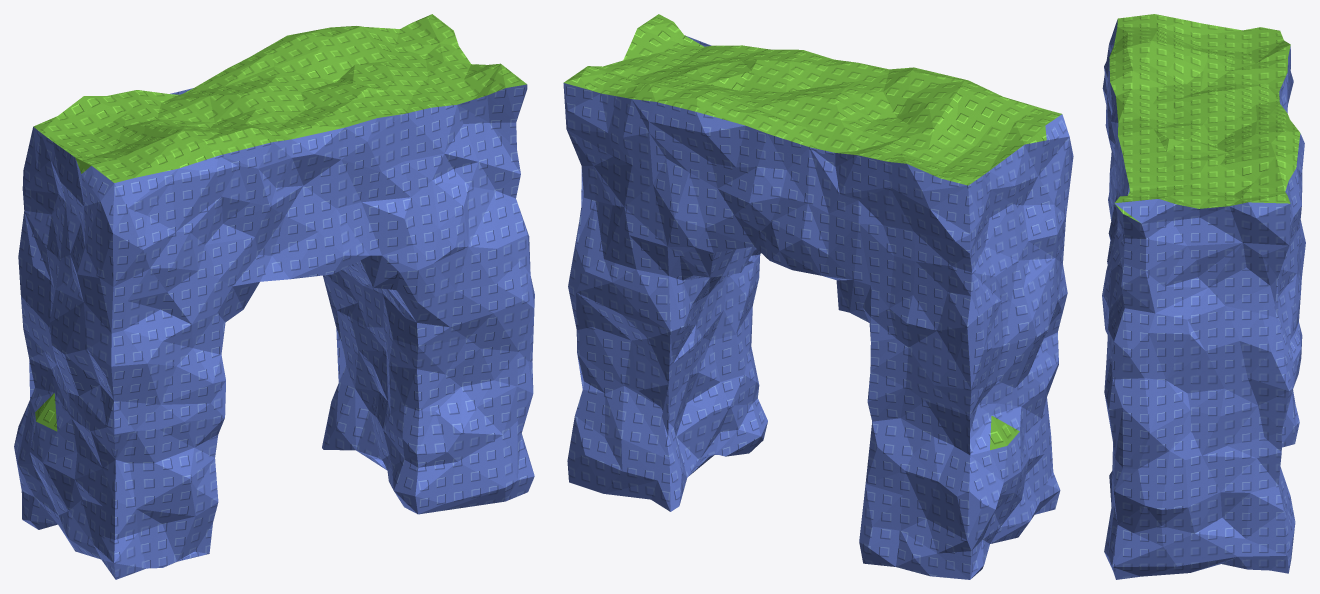
Rendered from Arch.glb.
The picture shows the model from 3 angles, left to right: view 1: azimuth 30°, elevation 25°; view 2: azimuth 150°, elevation 25°; view 3: azimuth 270°, elevation 25°; orthographic projection. The views are drawn at different scales.
Visible parts, largest first — view 1: Arch_Rock, Arch_Top; view 2: Arch_Rock, Arch_Top; view 3: Arch_Rock, Arch_Top.
Boxes of the visible parts, x1,y1,x2,y2 form: Arch_Rock: (14,84,534,579); Arch_Top: (33,14,526,431); Arch_Rock: (563,35,1073,579); Arch_Top: (564,14,1061,450); Arch_Rock: (1102,19,1305,579); Arch_Top: (1109,14,1300,222).
Bounding box in the file's own units: 28.09 × 25.82 × 11.98.
2 materials, 2 textured.
